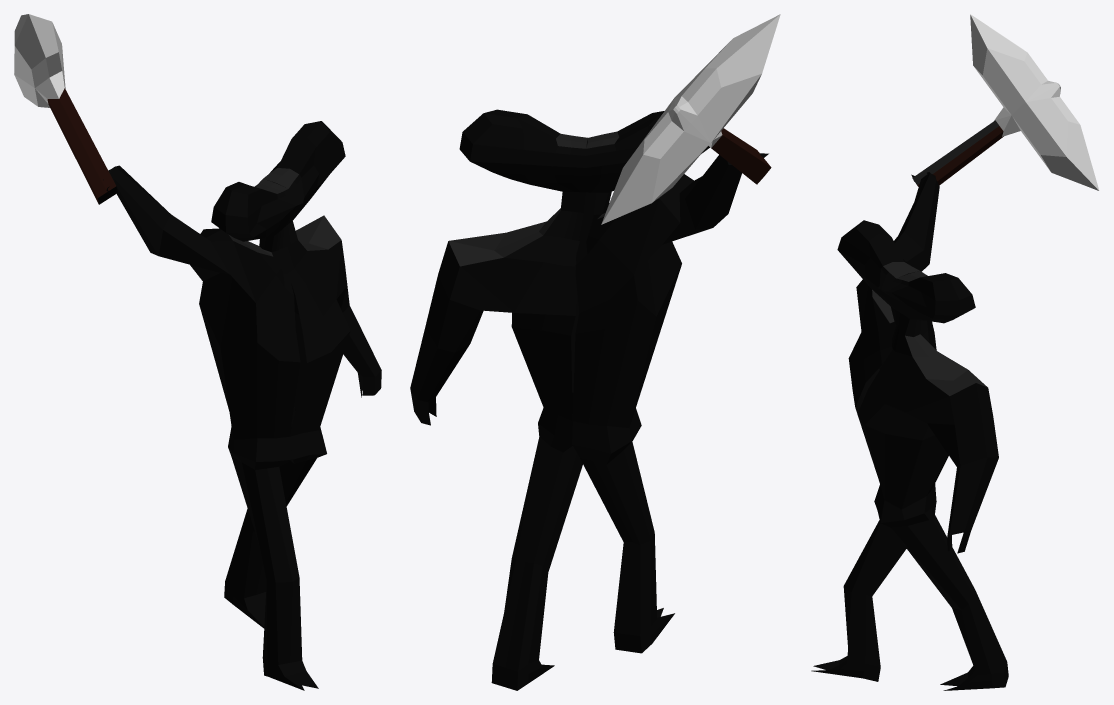
File: Giant1a.obj
3 renders of one model, left to right at view 1: azimuth 30°, elevation 25°; view 2: azimuth 150°, elevation 25°; view 3: azimuth 270°, elevation 25°, orthographic. The views are drawn at different scales.
Parts seen in each view (by area): view 1: Cube; view 2: Cube; view 3: Cube.
Boxes of the visible parts, <box> form: Cube: <box>14,14,381,690</box>; Cube: <box>410,14,780,690</box>; Cube: <box>811,14,1099,690</box>.
Bounding box in the file's own units: 0.971 × 1.81 × 0.8189.
